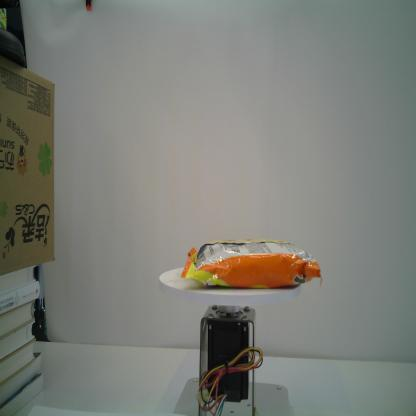Instant Noodles: (178, 236, 324, 291)
